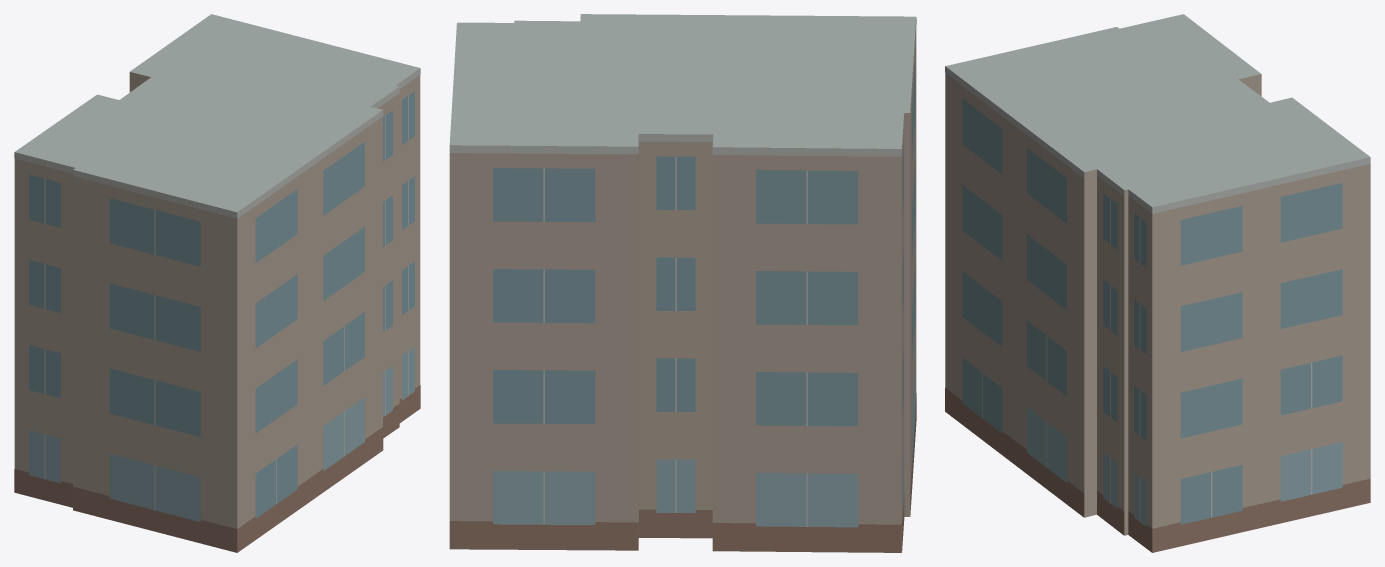
File: survey-upis-32931461.glb
The picture shows the model from 3 angles, left to right: view 1: azimuth 30°, elevation 25°; view 2: azimuth 150°, elevation 25°; view 3: azimuth 270°, elevation 25°; orthographic projection. The views are drawn at different scales.
Visible parts, largest first — view 1: survey-upis-32931461.tmp; view 2: survey-upis-32931461.tmp; view 3: survey-upis-32931461.tmp.
Boxes of the visible parts, x1,y1,x2,y2 form: survey-upis-32931461.tmp: [14, 14, 420, 552]; survey-upis-32931461.tmp: [449, 14, 916, 552]; survey-upis-32931461.tmp: [945, 14, 1370, 552].
Bounding box in the file's own units: 15.49 × 12.9 × 14.41.
